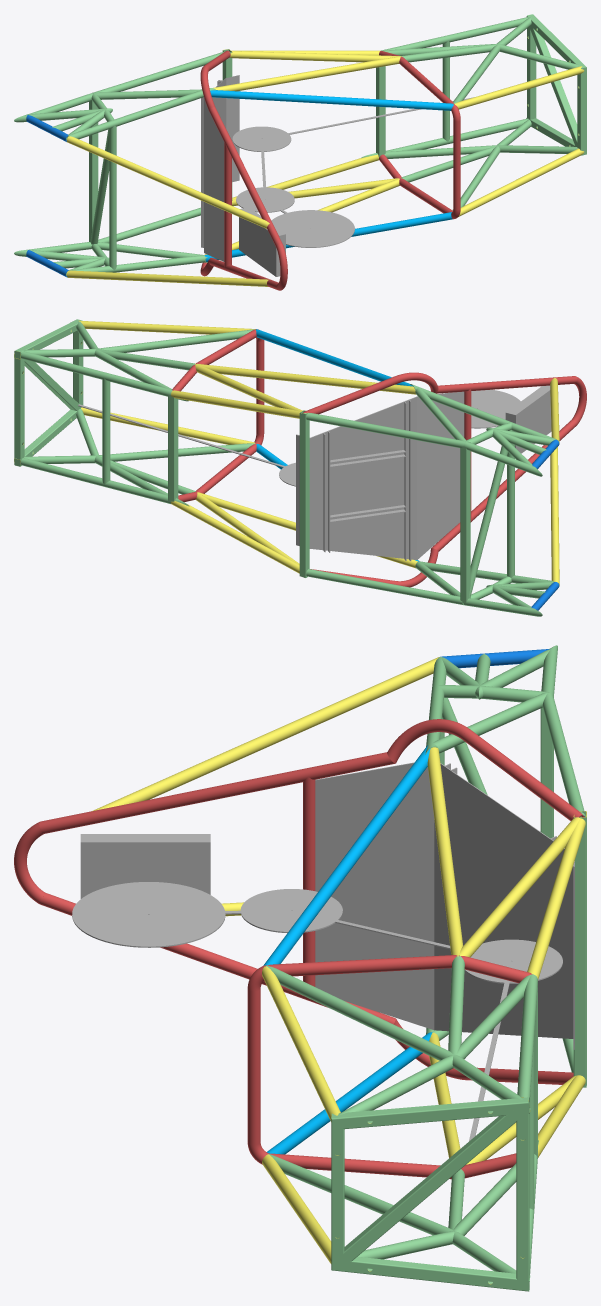
3 renders of one model, top to bottom at view 1: azimuth 30°, elevation 25°; view 2: azimuth 150°, elevation 25°; view 3: azimuth 270°, elevation 25°, orthographic. The views are drawn at different scales.
Visible parts, largest first — view 1: 13 rough sketch-1, Firewall_V2-1, 300mm circle head-1, Part2^Chassis Assembly-1, 200mm circle butt-1, 200mm circle shoulder-1, legs-1; view 2: 13 rough sketch-1, Firewall_V2-1, Part2^Chassis Assembly-1, 300mm circle head-1, legs-1; view 3: 13 rough sketch-1, Firewall_V2-1, 300mm circle head-1, Part2^Chassis Assembly-1, 200mm circle shoulder-1, 200mm circle butt-1.
Part boxes in pixels (x1=…): 13 rough sketch-1: x1=14, y1=14, x2=586, y2=290; Firewall_V2-1: x1=201, y1=75, x2=239, y2=261; 300mm circle head-1: x1=271, y1=210, x2=354, y2=247; Part2^Chassis Assembly-1: x1=239, y1=207, x2=285, y2=276; 200mm circle butt-1: x1=232, y1=126, x2=291, y2=151; 200mm circle shoulder-1: x1=236, y1=187, x2=294, y2=212; legs-1: x1=261, y1=97, x2=474, y2=139; 13 rough sketch-1: x1=14, y1=319, x2=586, y2=616; Firewall_V2-1: x1=296, y1=391, x2=464, y2=561; Part2^Chassis Assembly-1: x1=505, y1=385, x2=551, y2=453; 300mm circle head-1: x1=471, y1=389, x2=520, y2=428; legs-1: x1=78, y1=404, x2=295, y2=470; 13 rough sketch-1: x1=14, y1=645, x2=586, y2=1291; Firewall_V2-1: x1=315, y1=762, x2=574, y2=1049; 300mm circle head-1: x1=72, y1=882, x2=225, y2=947; Part2^Chassis Assembly-1: x1=80, y1=834, x2=210, y2=898; 200mm circle shoulder-1: x1=240, y1=889, x2=342, y2=933; 200mm circle butt-1: x1=464, y1=939, x2=562, y2=983.
Size of the model in its own units: 2.01 by 0.7661 by 1.12.
